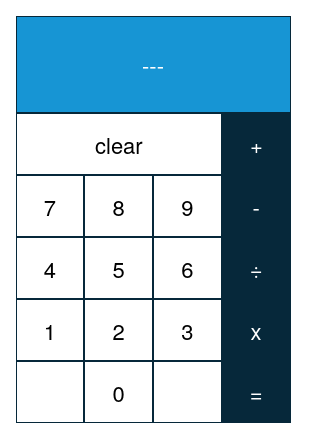
Test: Calculator › x operations › multiplies two numbers and displays correct product
Click the button "2" at (119, 330), box x1=84 y1=299 x2=153 y2=361
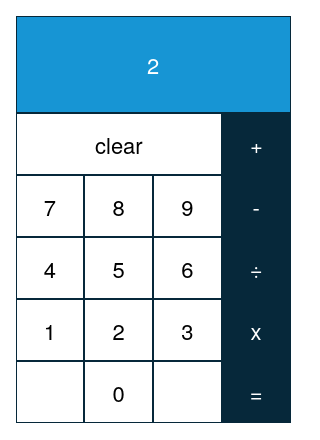
Click the button "x" at (256, 330), box x1=222 y1=299 x2=291 y2=361
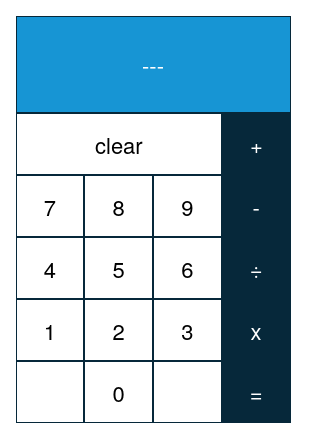
Click the button "9" at (187, 206), box x1=153 y1=175 x2=222 y2=237
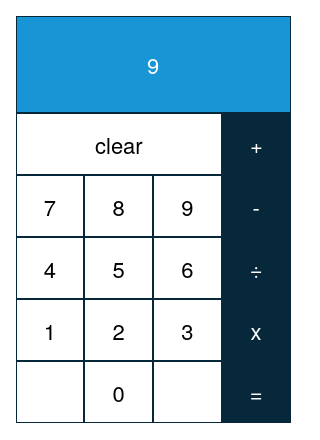
Click the button "=" at (256, 392), box x1=222 y1=361 x2=291 y2=423
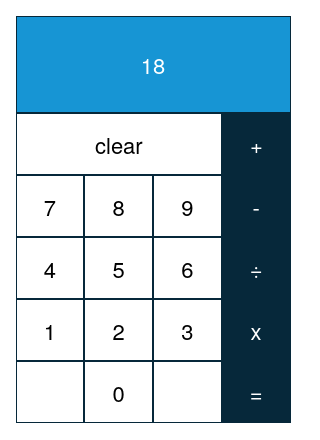
Expected: the text with test id "entry" reads "18", x1=141 y1=49 x2=165 y2=80
